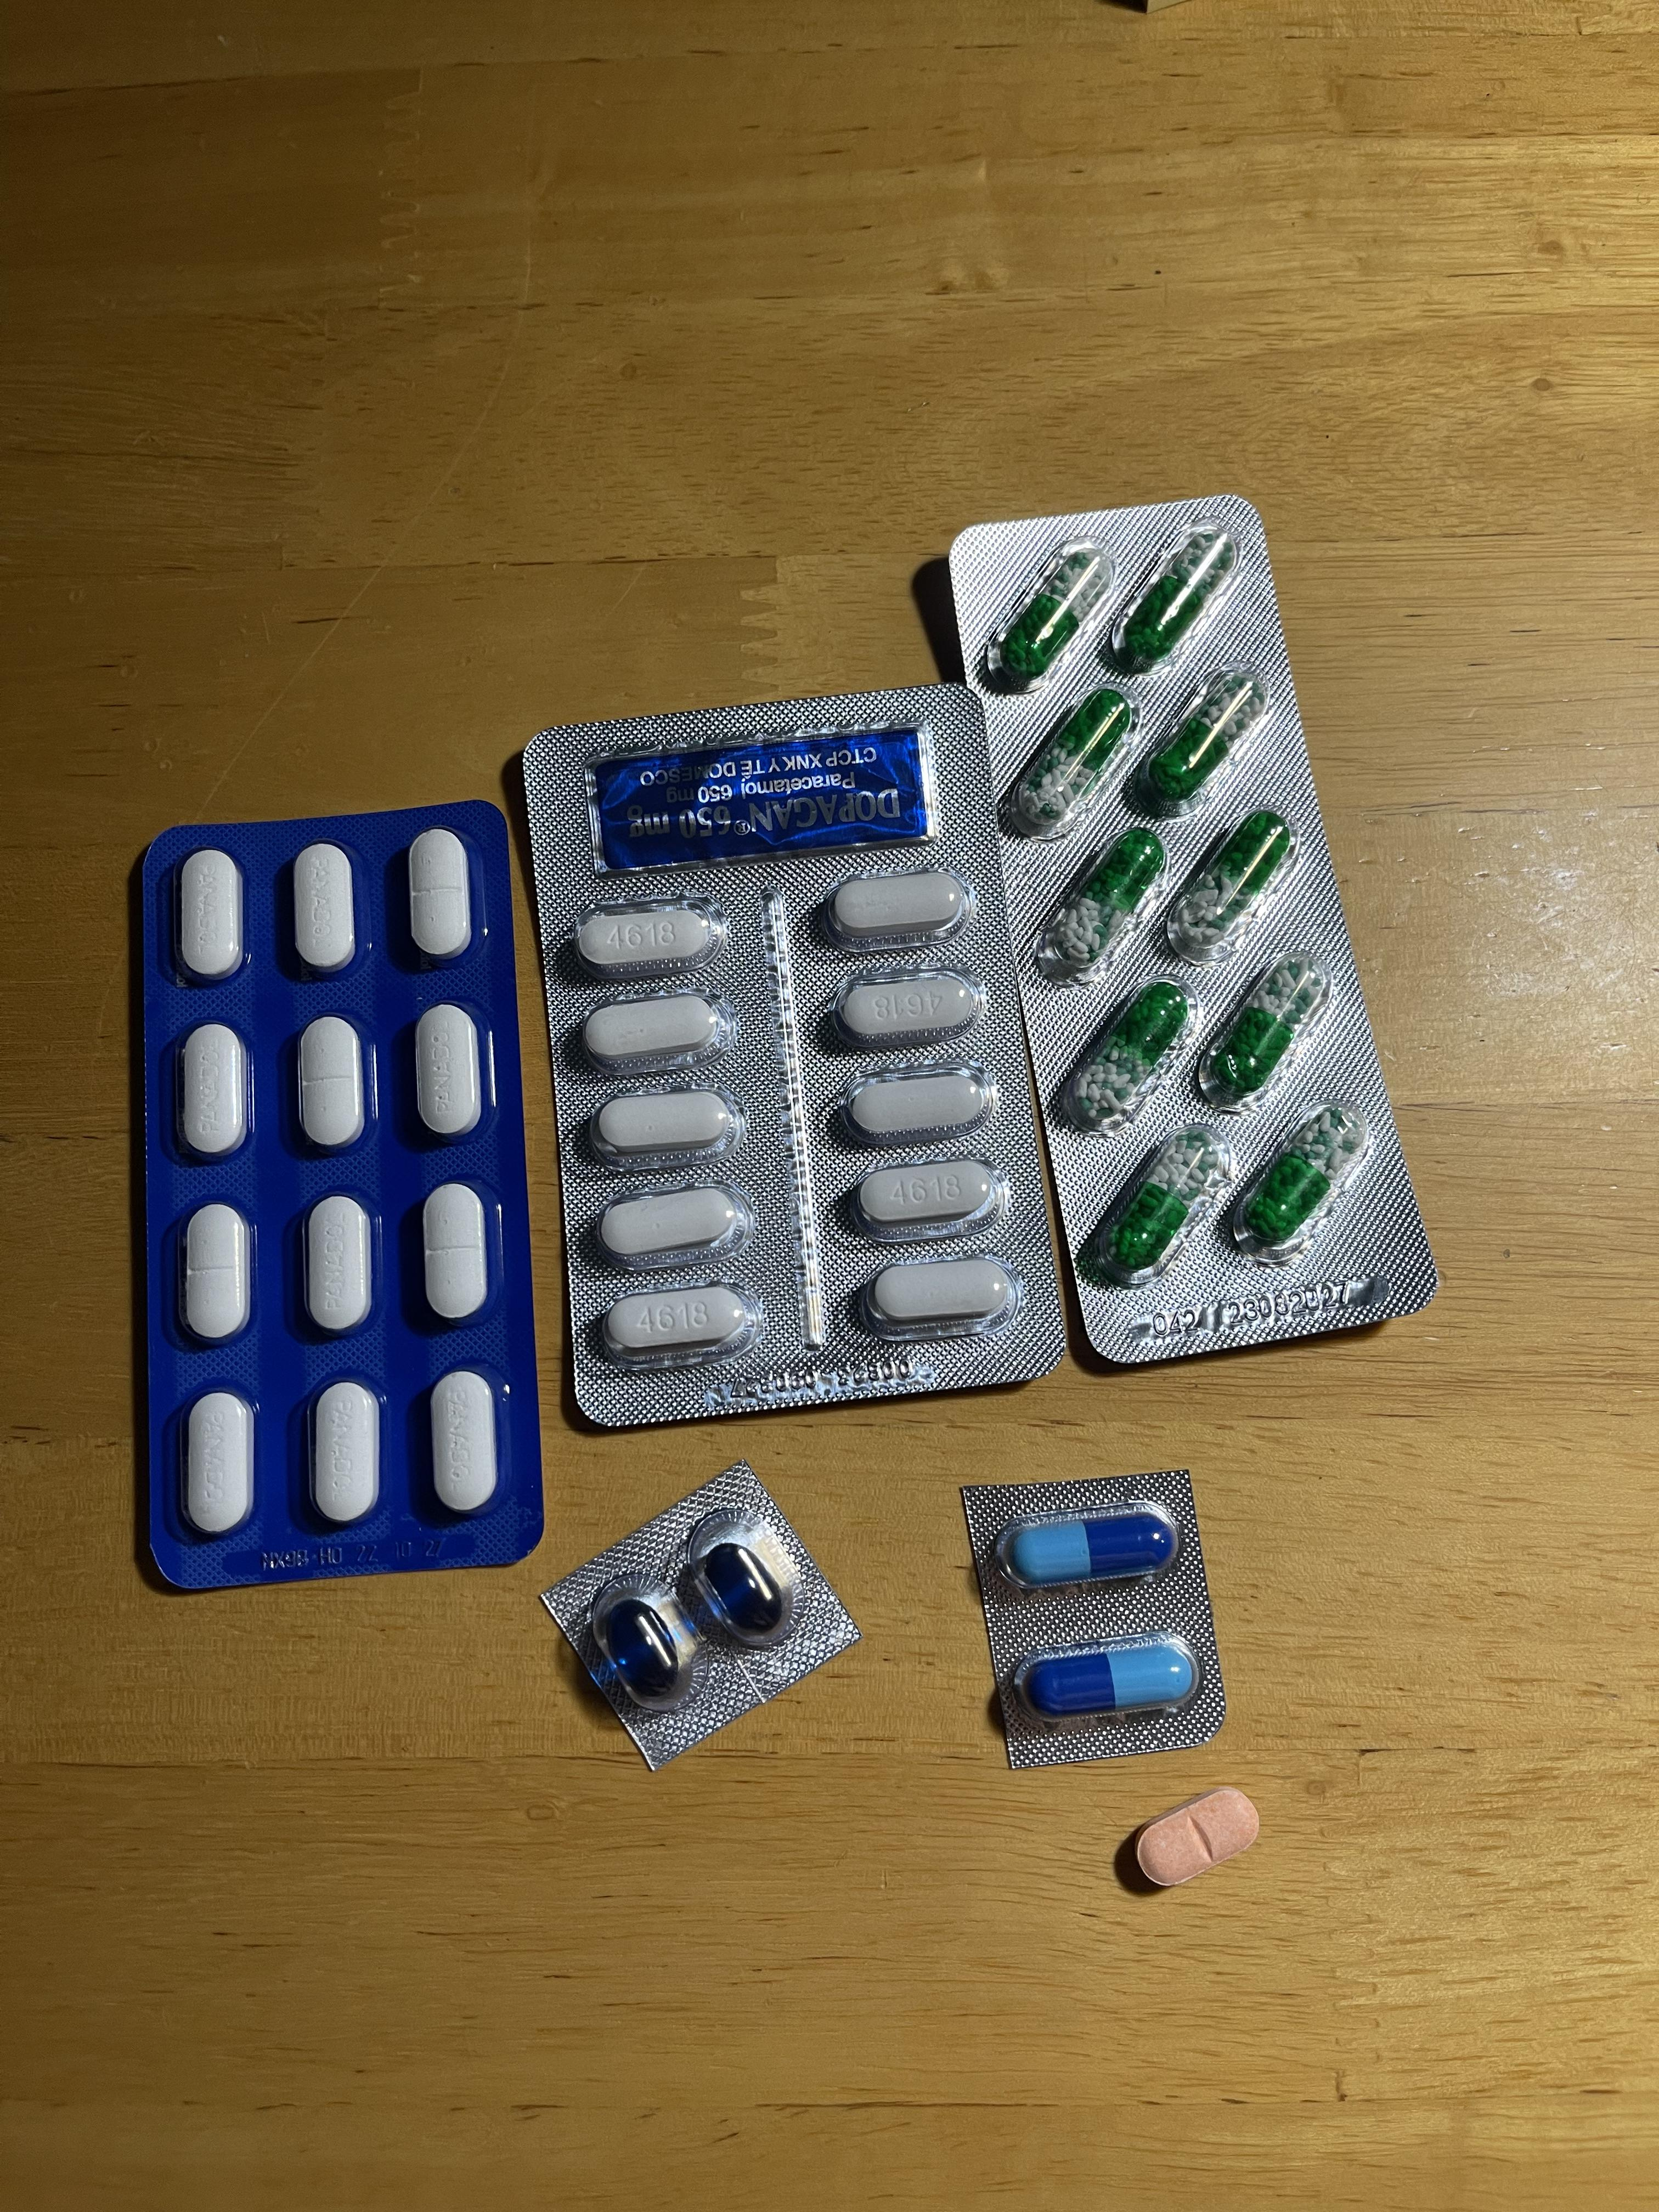Lincomyxin_500mg: (702, 1540, 786, 1629), (605, 1601, 681, 1693)
Loratadine_10mg: (1134, 1789, 1260, 1886)
Paracetamol_350mg: (183, 1390, 254, 1538), (301, 1193, 375, 1336), (310, 1379, 380, 1529), (181, 1202, 253, 1345), (429, 1369, 498, 1514), (422, 1183, 491, 1324), (296, 1015, 368, 1153), (178, 1022, 249, 1160), (176, 848, 246, 984), (415, 1005, 484, 1141), (291, 843, 357, 975), (408, 829, 472, 960)
Paracetamol_500mg: (850, 1157, 1004, 1235), (861, 1252, 1016, 1329), (836, 1069, 992, 1143), (833, 972, 983, 1047), (592, 1184, 739, 1261), (821, 867, 971, 941), (598, 1285, 749, 1357), (570, 904, 720, 972), (589, 1089, 732, 1157), (582, 993, 718, 1057)
Paracetamol_650mg: (1195, 948, 1330, 1109), (1061, 975, 1195, 1136), (1004, 685, 1140, 838), (1094, 1123, 1229, 1278), (1232, 1097, 1368, 1249), (1164, 808, 1297, 961), (1112, 521, 1243, 674), (1138, 667, 1272, 813), (988, 536, 1114, 688), (1044, 826, 1169, 975)
pill: (1023, 1641, 1192, 1716), (1011, 1510, 1173, 1583)
